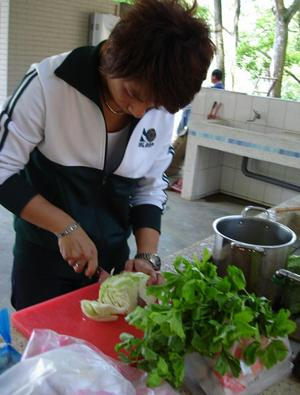person: (2, 3, 216, 313)
